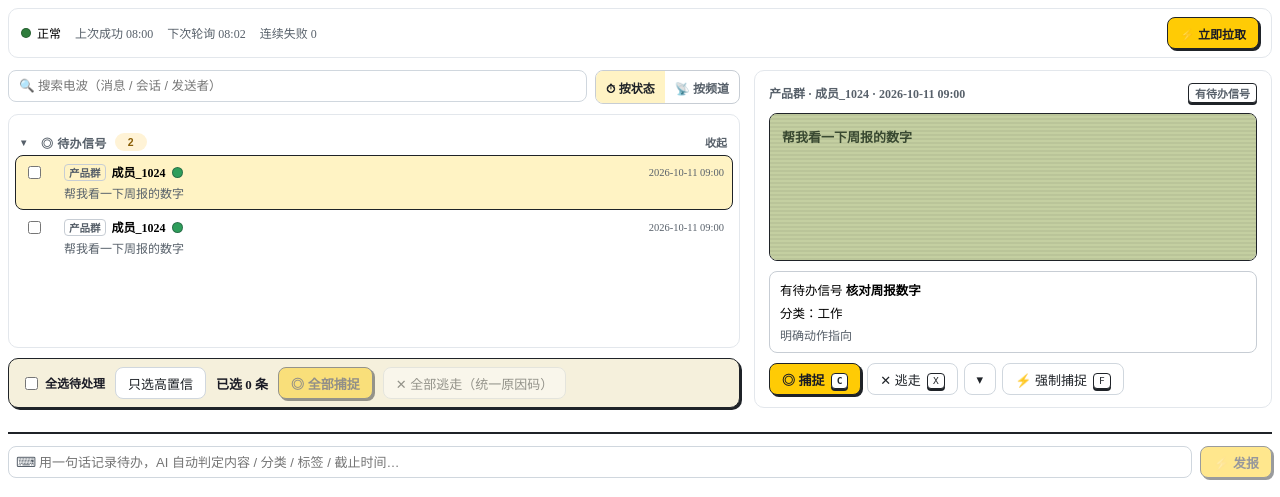
Test: BatchBar（U13） › 随待处理组常驻（桌面批量条 parity）：全选/清除联动「已选 N 条」
This screenshot has width=1280, height=497.
Check: the element with test id "batch-bar" shows "已选 0 条", box [216, 376, 268, 392]
Check: the text "清除" is not shown
Click the 1st checkbox named "全选待处理": (34,172) [28, 166, 41, 179]
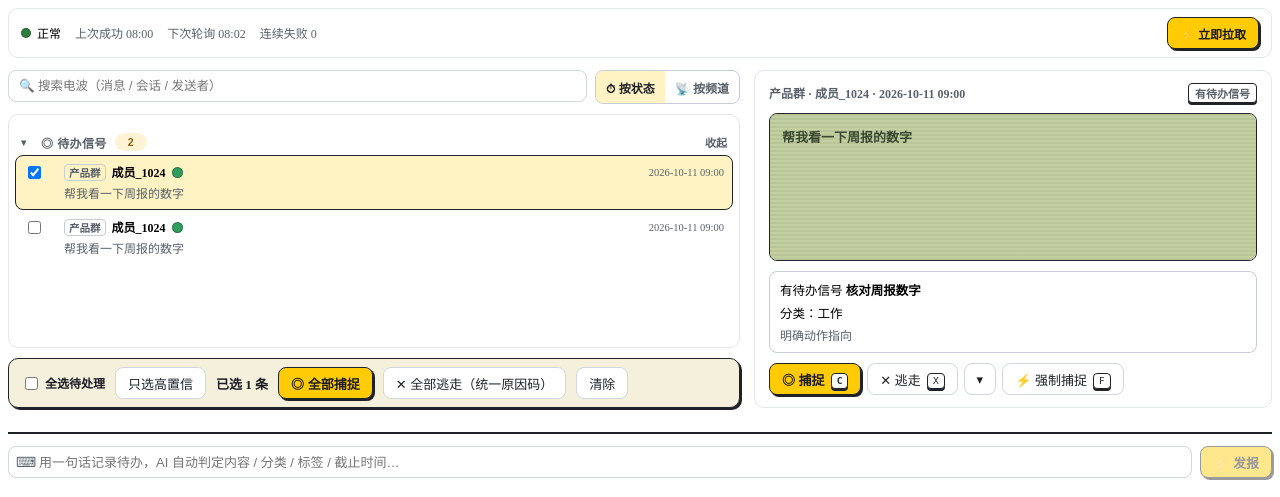
Check: the element with test id "batch-bar" shows "已选 1 条", box [216, 376, 268, 392]
Click the 2nd checkbox named "全选待处理": (34,228) [28, 221, 41, 234]
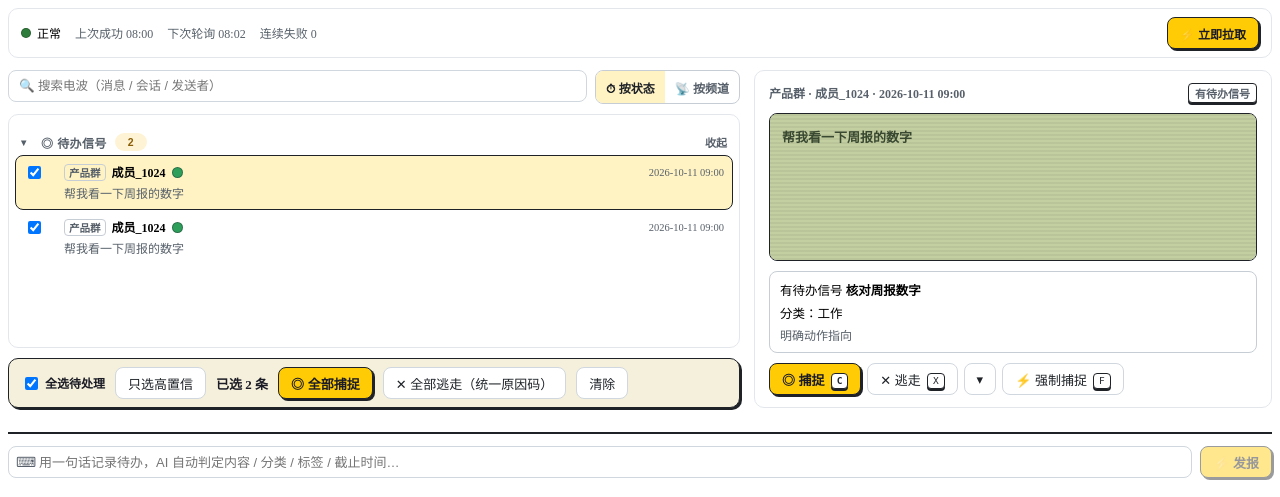
Check: the element with test id "batch-bar" shows "已选 2 条", box [216, 376, 268, 392]
Click the button "清除": (602,383) [576, 367, 628, 399]
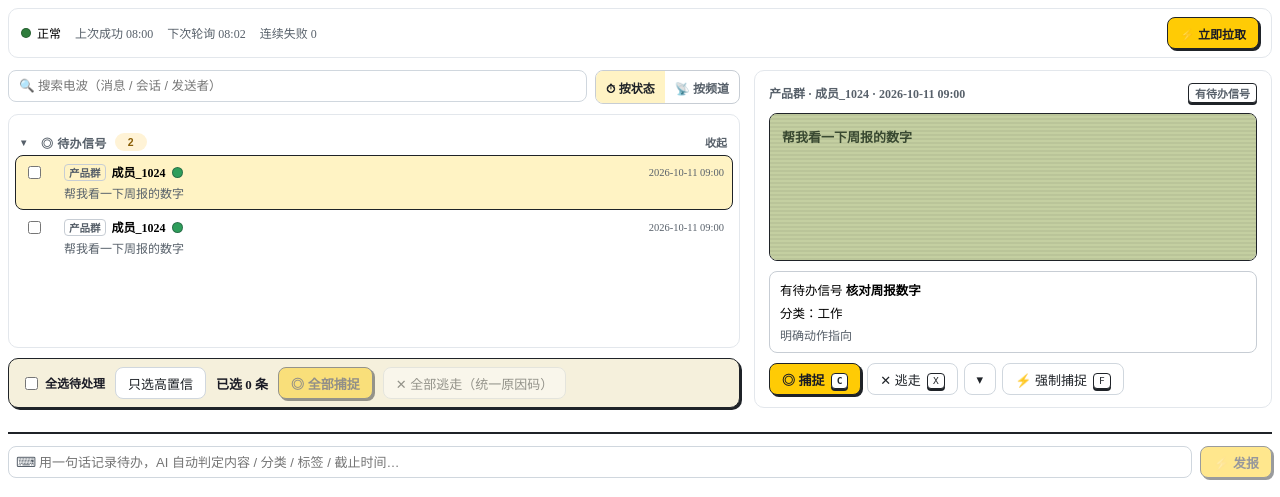
Check: the element with test id "batch-bar" shows "已选 0 条", box [216, 376, 268, 392]
